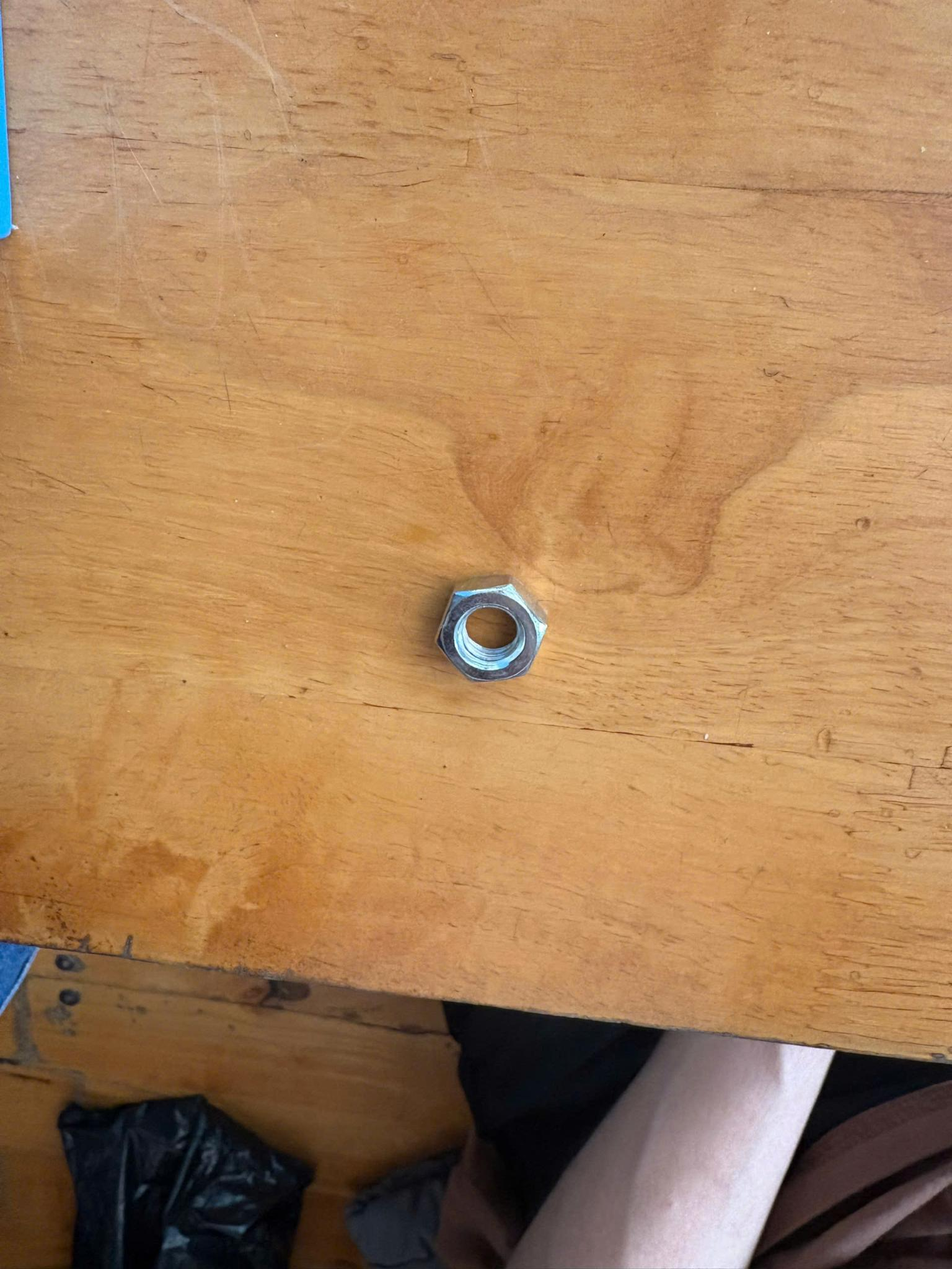nut: (431, 568, 567, 714)
